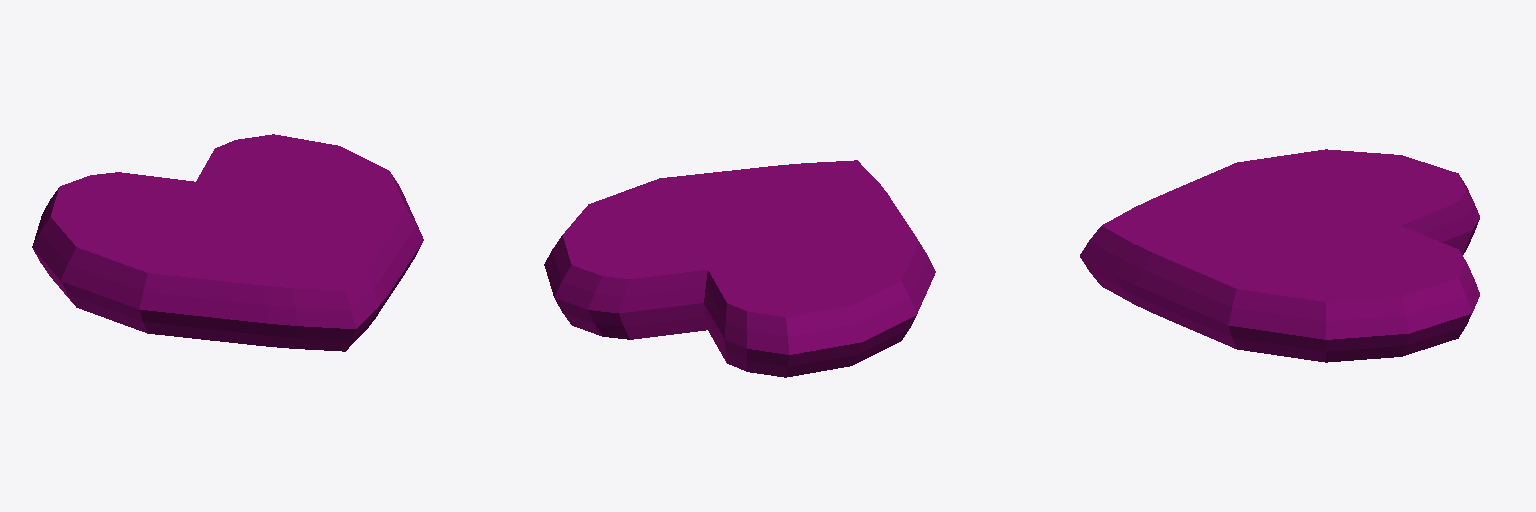
Rendered from Hearth.obj.
The picture shows the model from 3 angles: view 1: azimuth 30°, elevation 25°; view 2: azimuth 150°, elevation 25°; view 3: azimuth 270°, elevation 25°; orthographic projection.
Visible parts, largest first — view 1: Hearth; view 2: Hearth; view 3: Hearth.
Boxes of the visible parts, box(x1,y1,x2,y2) form: Hearth: box(32, 134, 423, 351); Hearth: box(544, 160, 935, 377); Hearth: box(1080, 149, 1479, 362).
Size of the model in its own units: 1.19 by 0.2 by 1.2.